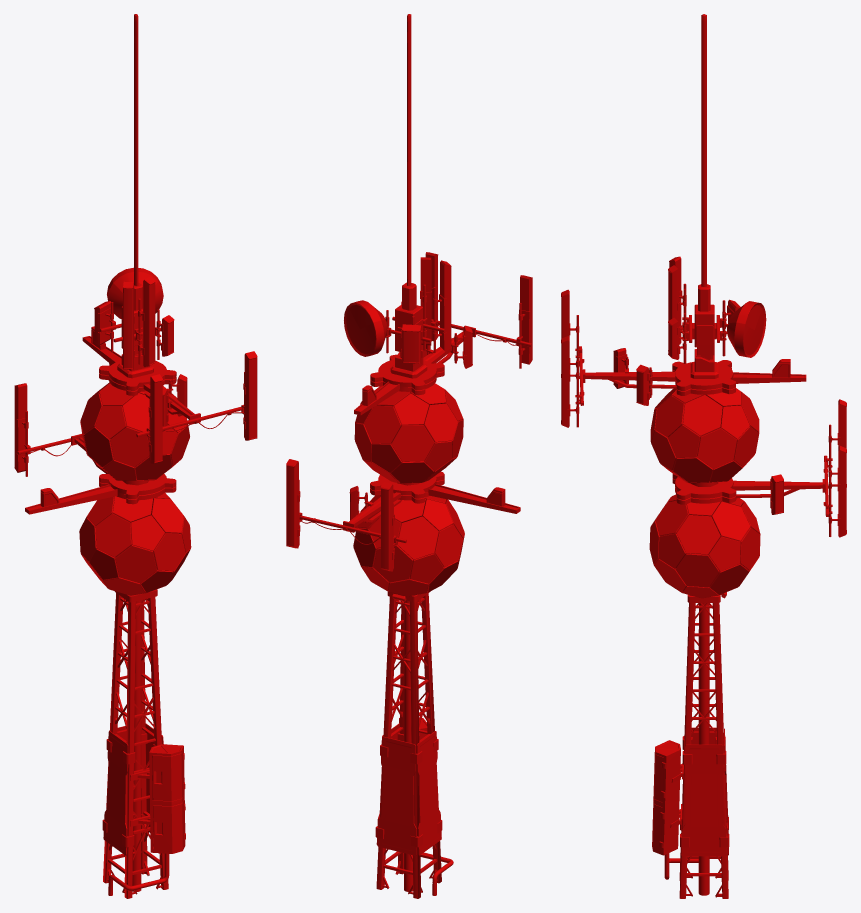
File: AntennaTower.fbx
3 renders of one model, left to right at view 1: azimuth 30°, elevation 25°; view 2: azimuth 150°, elevation 25°; view 3: azimuth 270°, elevation 25°, orthographic.
Visible parts, largest first — view 1: RadarTower_static; view 2: RadarTower_static; view 3: RadarTower_static.
Part boxes in pixels (<box>): RadarTower_static: <box>14,14,257,898</box>; RadarTower_static: <box>286,14,532,898</box>; RadarTower_static: <box>561,14,846,898</box>.
Size of the model in its own units: 1103 by 5445 by 1605.
